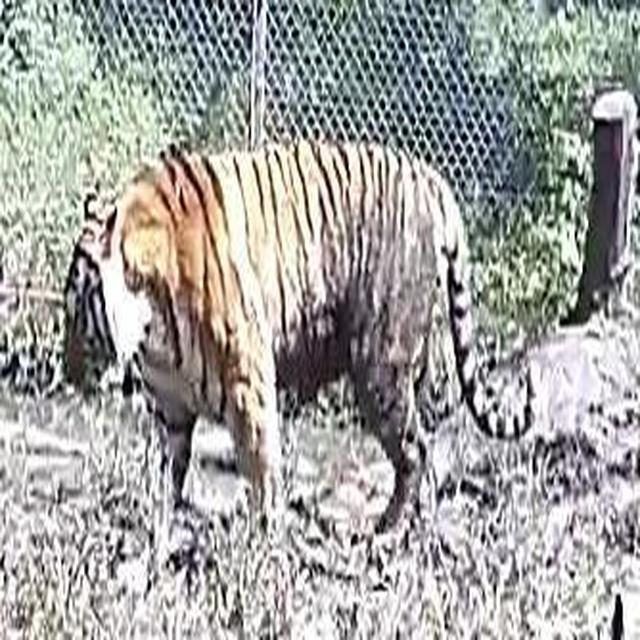tiger: (59, 135, 535, 577)
